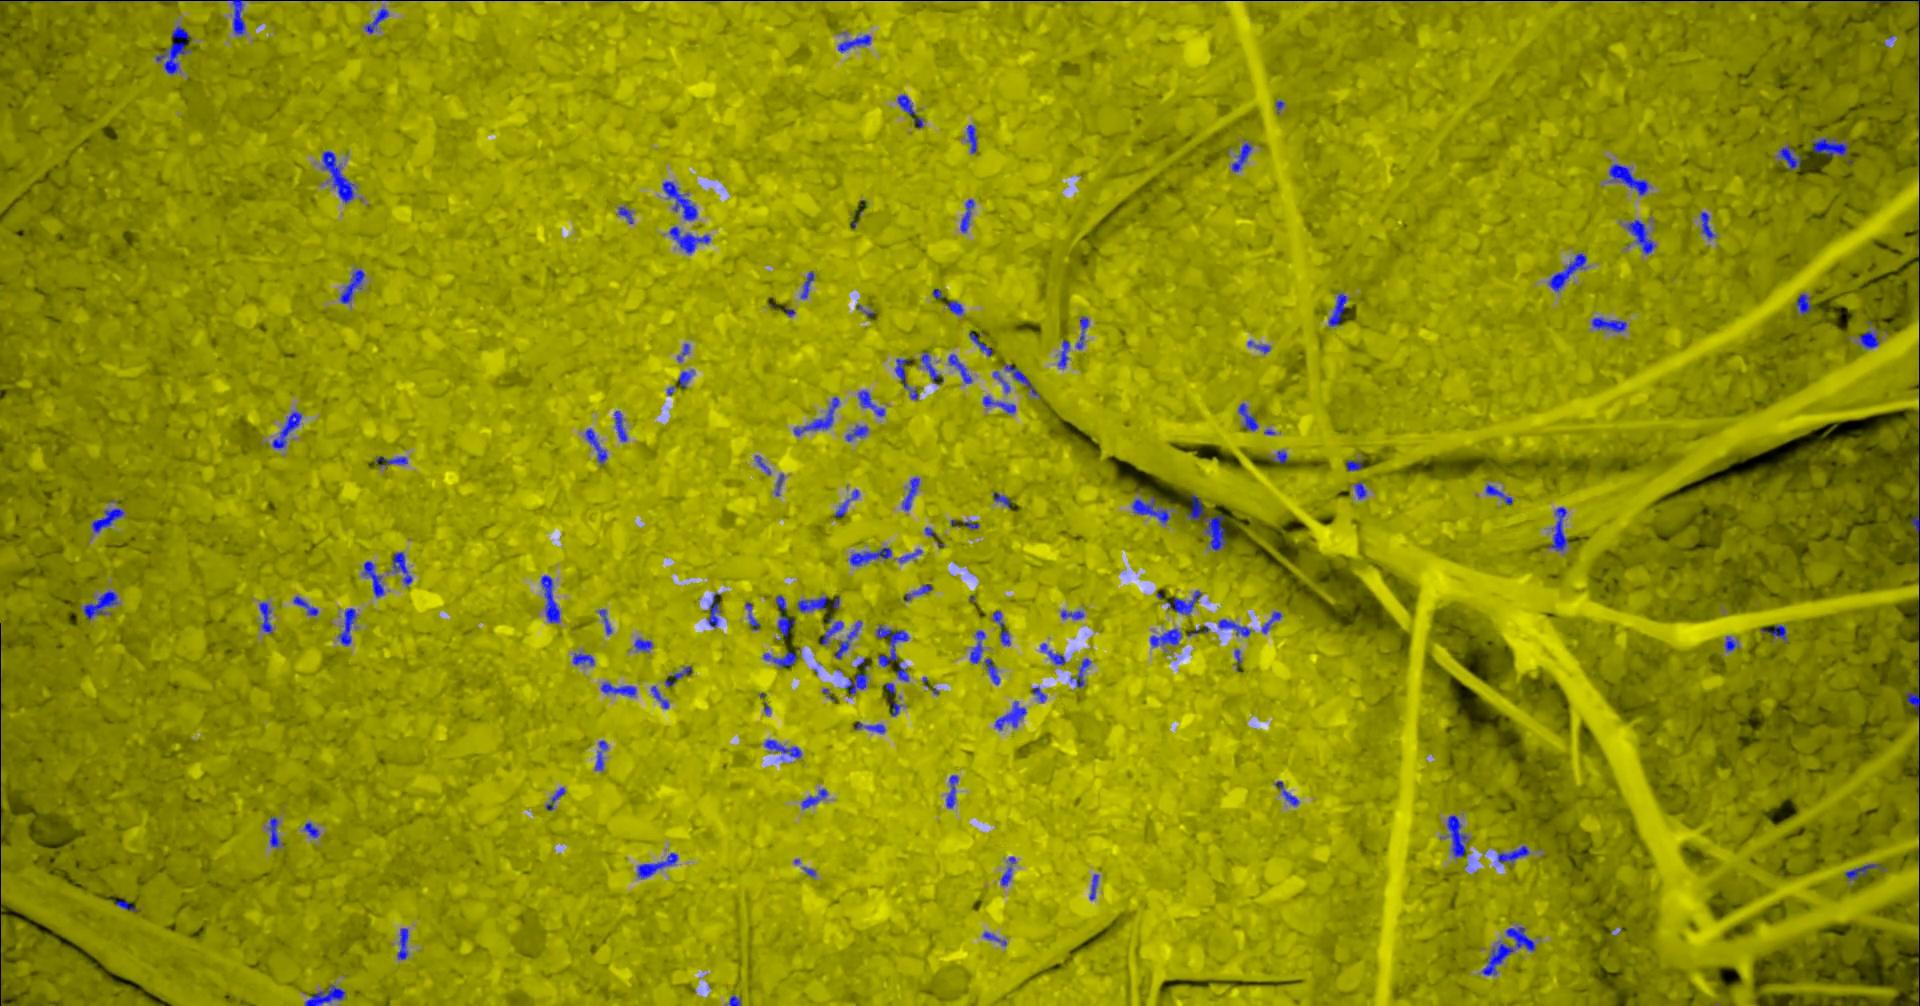ant: (1185, 494, 1225, 550), (792, 396, 839, 436), (155, 25, 190, 74), (321, 150, 353, 202), (1548, 251, 1586, 291), (662, 180, 697, 220), (876, 624, 908, 666), (1609, 163, 1647, 196), (1003, 363, 1039, 398), (1481, 941, 1514, 976), (270, 412, 301, 448), (669, 226, 710, 253), (834, 620, 861, 659), (636, 852, 677, 878), (1131, 495, 1168, 523), (1625, 218, 1655, 253), (83, 589, 117, 619), (894, 358, 918, 399), (1164, 589, 1201, 615), (994, 700, 1026, 729), (1547, 506, 1567, 550), (540, 575, 559, 622), (897, 94, 922, 128), (339, 269, 364, 304), (844, 658, 869, 694), (1446, 815, 1467, 857), (303, 984, 345, 1005), (1905, 658, 1919, 716), (919, 351, 943, 384), (91, 508, 124, 532), (362, 560, 383, 597), (584, 428, 606, 464), (850, 547, 891, 565), (1505, 926, 1535, 950), (337, 607, 356, 645), (763, 739, 801, 758), (857, 390, 884, 417), (833, 489, 858, 517), (1811, 138, 1848, 158), (1844, 862, 1883, 880), (949, 353, 971, 384), (391, 551, 411, 584), (226, 0, 245, 34), (1328, 292, 1347, 326), (1497, 845, 1529, 865), (820, 616, 843, 644), (992, 610, 1010, 645), (364, 8, 389, 33), (1274, 780, 1298, 805), (837, 34, 871, 52), (1149, 627, 1181, 647), (1230, 142, 1251, 171), (982, 395, 1015, 413), (902, 478, 919, 511), (1217, 619, 1250, 636), (762, 650, 797, 667), (968, 332, 992, 356), (1484, 484, 1512, 504), (1070, 658, 1090, 687), (1778, 145, 1801, 169), (902, 583, 932, 601), (664, 666, 691, 686), (1238, 403, 1257, 431), (1040, 643, 1064, 664), (801, 788, 827, 808), (599, 682, 636, 696), (959, 199, 974, 232), (969, 630, 984, 663), (267, 815, 283, 846), (1591, 318, 1625, 332), (706, 592, 720, 626), (545, 788, 565, 810), (293, 596, 317, 615), (797, 596, 827, 611), (1261, 611, 1281, 633), (945, 774, 957, 808), (1911, 500, 1919, 556), (1076, 316, 1088, 349), (1858, 328, 1878, 348), (1001, 856, 1015, 885), (1700, 211, 1716, 238), (992, 370, 1010, 392), (650, 685, 668, 708), (258, 601, 270, 633), (800, 271, 814, 298), (745, 601, 759, 629), (613, 410, 626, 441), (1760, 624, 1785, 639), (984, 658, 999, 683), (1057, 339, 1069, 368), (594, 741, 607, 770), (777, 615, 794, 636), (844, 426, 867, 441), (855, 721, 885, 733), (598, 608, 611, 634), (110, 898, 136, 911), (397, 927, 408, 959), (571, 652, 594, 666), (983, 931, 1006, 945), (993, 492, 1011, 509), (1796, 293, 1811, 314), (375, 456, 408, 465), (1247, 340, 1270, 353), (898, 549, 921, 561), (966, 124, 977, 152), (678, 370, 693, 387), (632, 638, 651, 652), (618, 206, 632, 224), (1031, 687, 1046, 702), (946, 300, 963, 314), (303, 821, 317, 837), (1090, 874, 1098, 899), (897, 662, 908, 681), (1271, 450, 1286, 464), (1354, 481, 1366, 498), (1345, 459, 1363, 470), (1060, 610, 1083, 619), (775, 594, 786, 611), (1724, 635, 1736, 652), (728, 995, 742, 1005), (1865, 0, 1919, 3)
